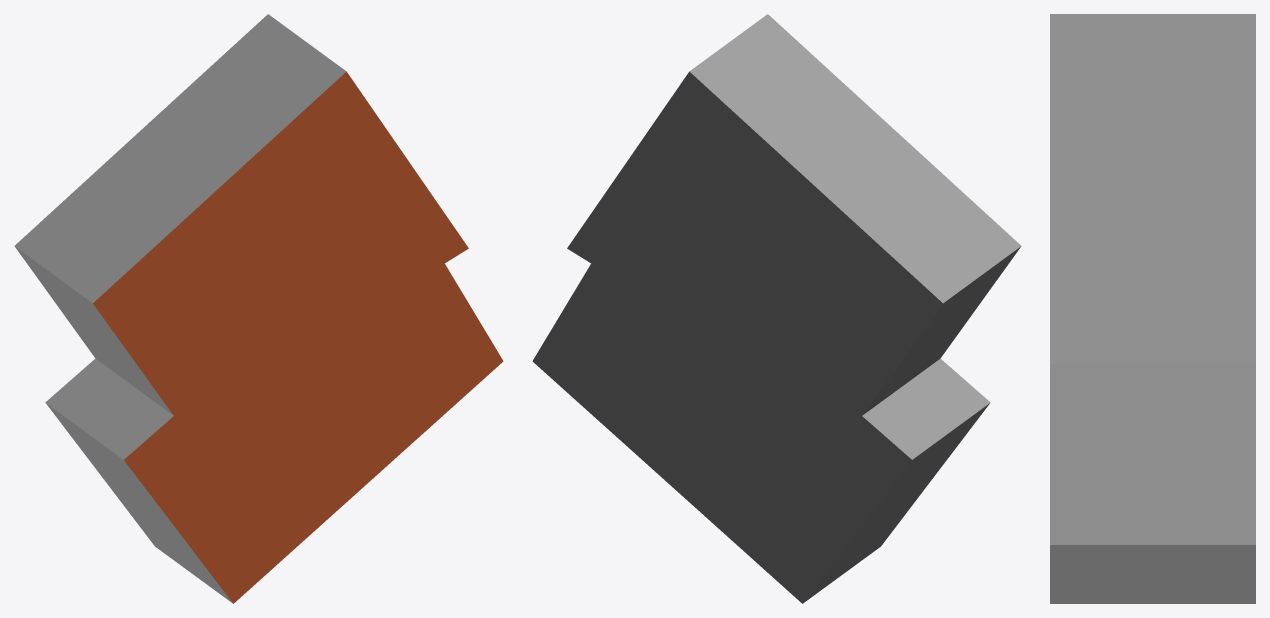
File: construction_5984_assumed_A_Casa_h6m.obj
3 renders of one model, left to right at view 1: azimuth 30°, elevation 25°; view 2: azimuth 150°, elevation 25°; view 3: azimuth 270°, elevation 25°, orthographic. The views are drawn at different scales.
Parts seen in each view (by area): view 1: construction_5984_assumed_A_Casa; view 2: construction_5984_assumed_A_Casa; view 3: construction_5984_assumed_A_Casa.
Boxes of the visible parts, box(x1,y1,x2,y2) form: construction_5984_assumed_A_Casa: box(14, 14, 503, 603); construction_5984_assumed_A_Casa: box(532, 14, 1021, 603); construction_5984_assumed_A_Casa: box(1050, 14, 1255, 603).
Size of the model in its own units: 18.13 by 21.29 by 6.
